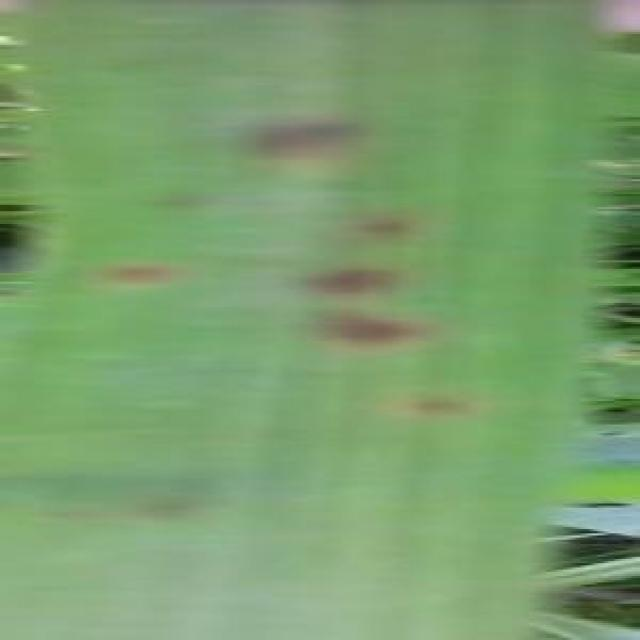brownspots: (258, 113, 382, 173), (322, 313, 429, 350), (352, 194, 435, 241), (403, 386, 478, 433), (303, 266, 403, 294), (96, 260, 186, 290)
